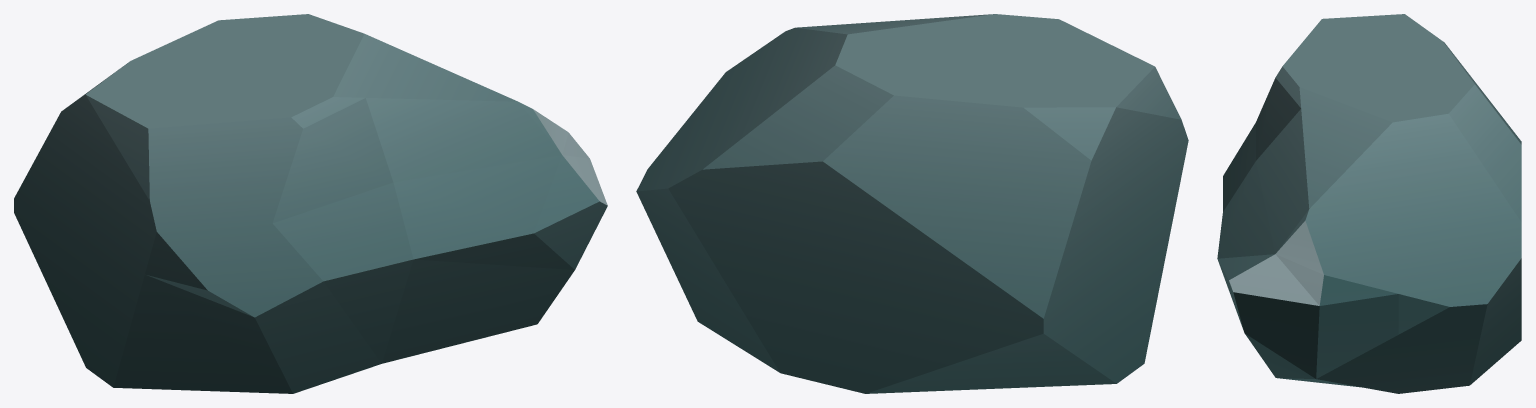
Rendered from Stone_02.fbx.
3 renders of one model, left to right at view 1: azimuth 30°, elevation 25°; view 2: azimuth 150°, elevation 25°; view 3: azimuth 270°, elevation 25°, orthographic. The views are drawn at different scales.
Parts seen in each view (by area): view 1: Cube.229; view 2: Cube.229; view 3: Cube.229.
Boxes of the visible parts, x1=… form: Cube.229: x1=14, y1=14, x2=607, y2=393; Cube.229: x1=636, y1=14, x2=1188, y2=393; Cube.229: x1=1217, y1=14, x2=1521, y2=393.
Bounding box in the file's own units: 142 × 88.96 × 101.
